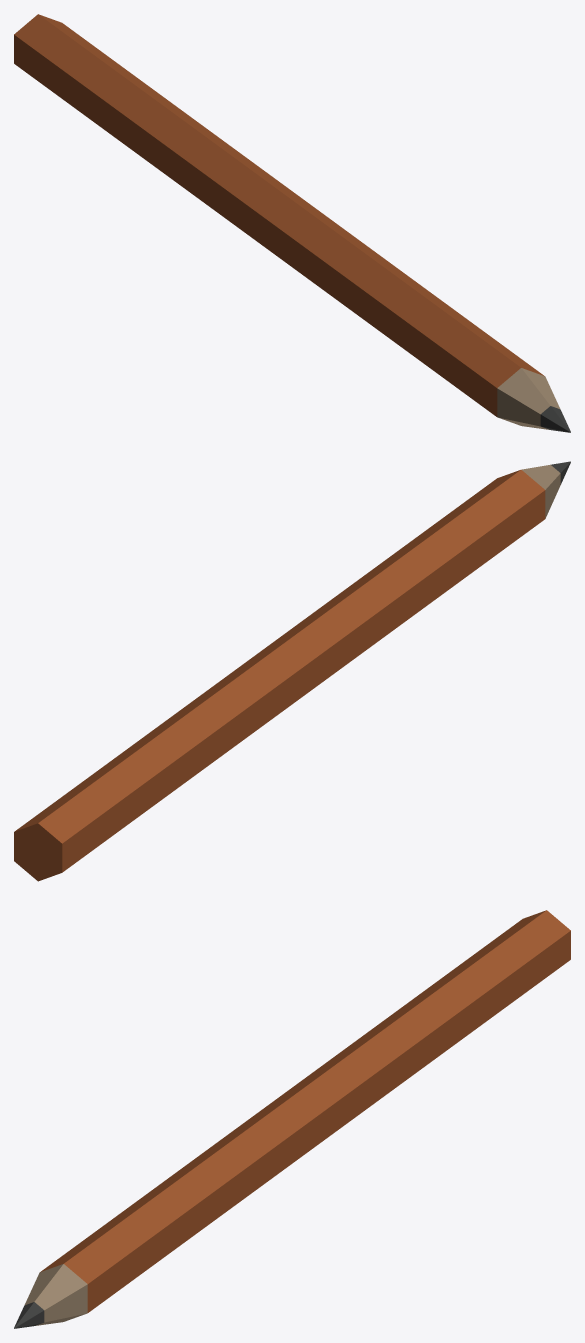
The model's file is Pen.fbx.
3 views of the same model, one above another, from view 1: azimuth 30°, elevation 25°; view 2: azimuth 150°, elevation 25°; view 3: azimuth 330°, elevation 25° (orthographic).
Visible parts, largest first — view 1: Cylinder; view 2: Cylinder; view 3: Cylinder.
Boxes of the visible parts, x1=… form: Cylinder: x1=14, y1=14, x2=570, y2=432; Cylinder: x1=14, y1=461, x2=570, y2=881; Cylinder: x1=14, y1=910, x2=570, y2=1328.
Size of the model in its own units: 8.79 by 10.15 by 168.
